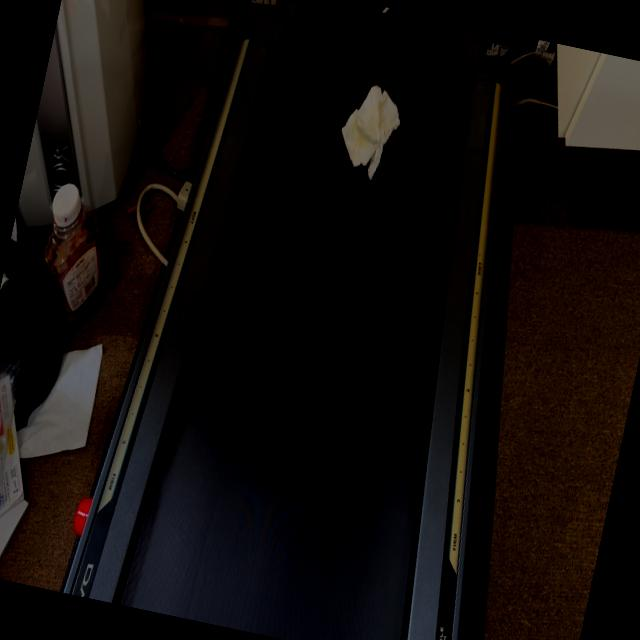Recycle: (330, 77, 410, 188)
